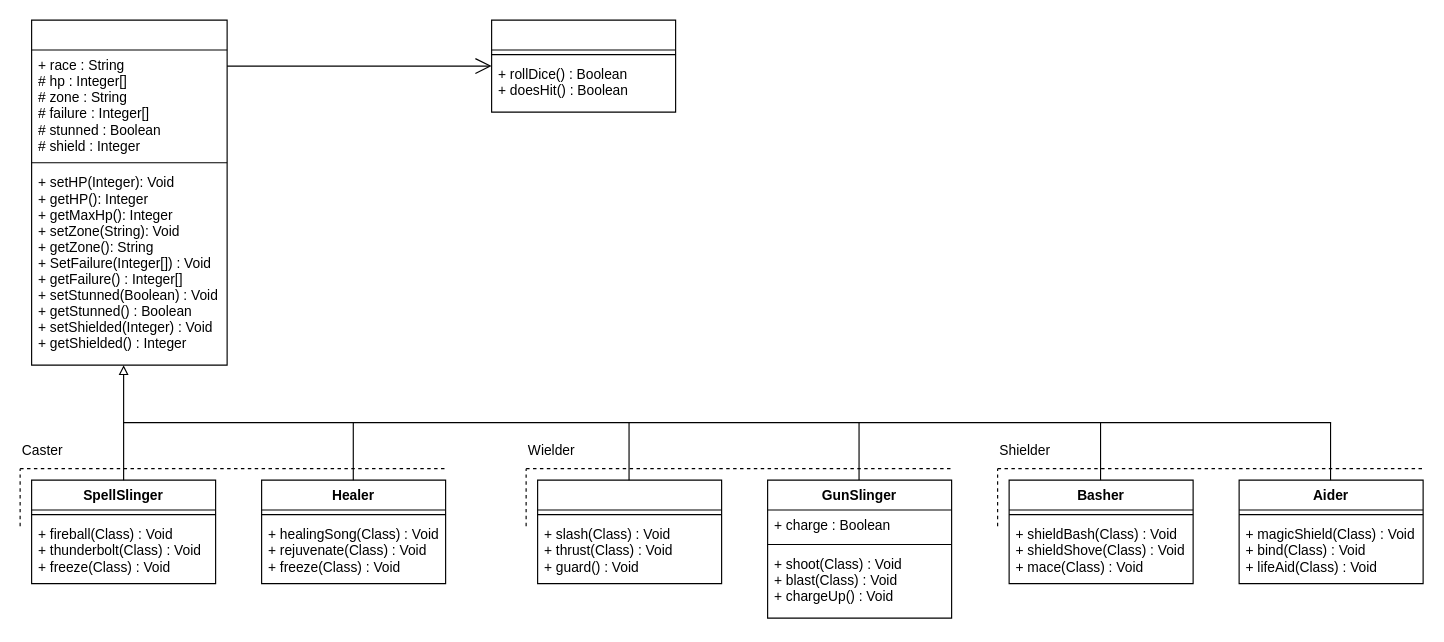
Some shapes in this 1444 by 642 pixel diagram are drawn without their labels. The shapes that lost their labels are listed below. From the top down, each one's box as (x1, y1, x2, y2) in pixels, then its label:
(490, 19, 676, 112): Game
(30, 19, 227, 365): Class
(536, 479, 722, 584): Swordsman
